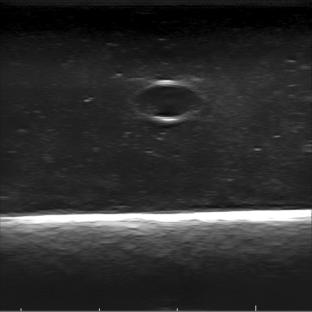vessel: (132, 78, 211, 123)
